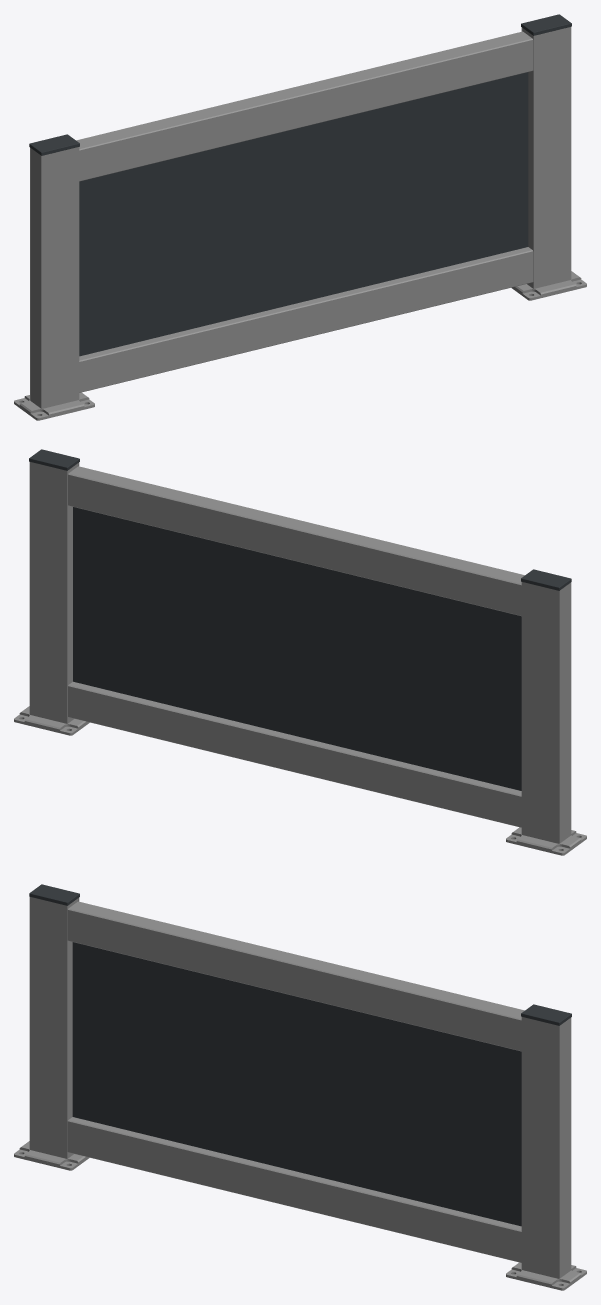
3 views of the same model, one above another, from view 1: azimuth 30°, elevation 25°; view 2: azimuth 150°, elevation 25°; view 3: azimuth 330°, elevation 25° (orthographic).
Parts seen in each view (by area): view 1: Plane001, Shape1, Shape016, Rectangle086, Rectangle087, base023, base022, Box031, Box032; view 2: Plane001, Shape1, Shape016, Rectangle086, Rectangle087, base023, base022, Box031, Box032; view 3: Plane001, Shape1, Shape016, Rectangle087, Rectangle086, base022, base023, Box032, Box031.
Boxes of the visible parts, x1,y1,x2,y2 form: Plane001: (79,72,528,356); Shape1: (76,31,533,181); Shape016: (79,247,533,392); Rectangle086: (30,147,79,408); Rectangle087: (521,27,571,288); base023: (14,392,94,420); base022: (511,271,586,300); Box031: (29,134,79,155); Box032: (521,14,571,35); Plane001: (73,507,521,790); Shape1: (68,466,524,616); Shape016: (68,681,521,827); Rectangle086: (521,582,571,843); Rectangle087: (29,462,79,723); base023: (506,827,586,855); base022: (14,706,89,735); Box031: (521,569,571,590); Box032: (29,449,79,470); Plane001: (72,942,521,1226); Shape1: (67,901,524,1051); Shape016: (67,1117,521,1262); Rectangle087: (521,1017,571,1278); Rectangle086: (29,897,79,1158); base022: (506,1262,586,1290); base023: (14,1141,89,1170); Box032: (521,1004,571,1025); Box031: (29,884,79,905).
Bounding box in the file's own units: 1171 × 532 × 90.02.
Materials: 2 (1 with a texture image).
